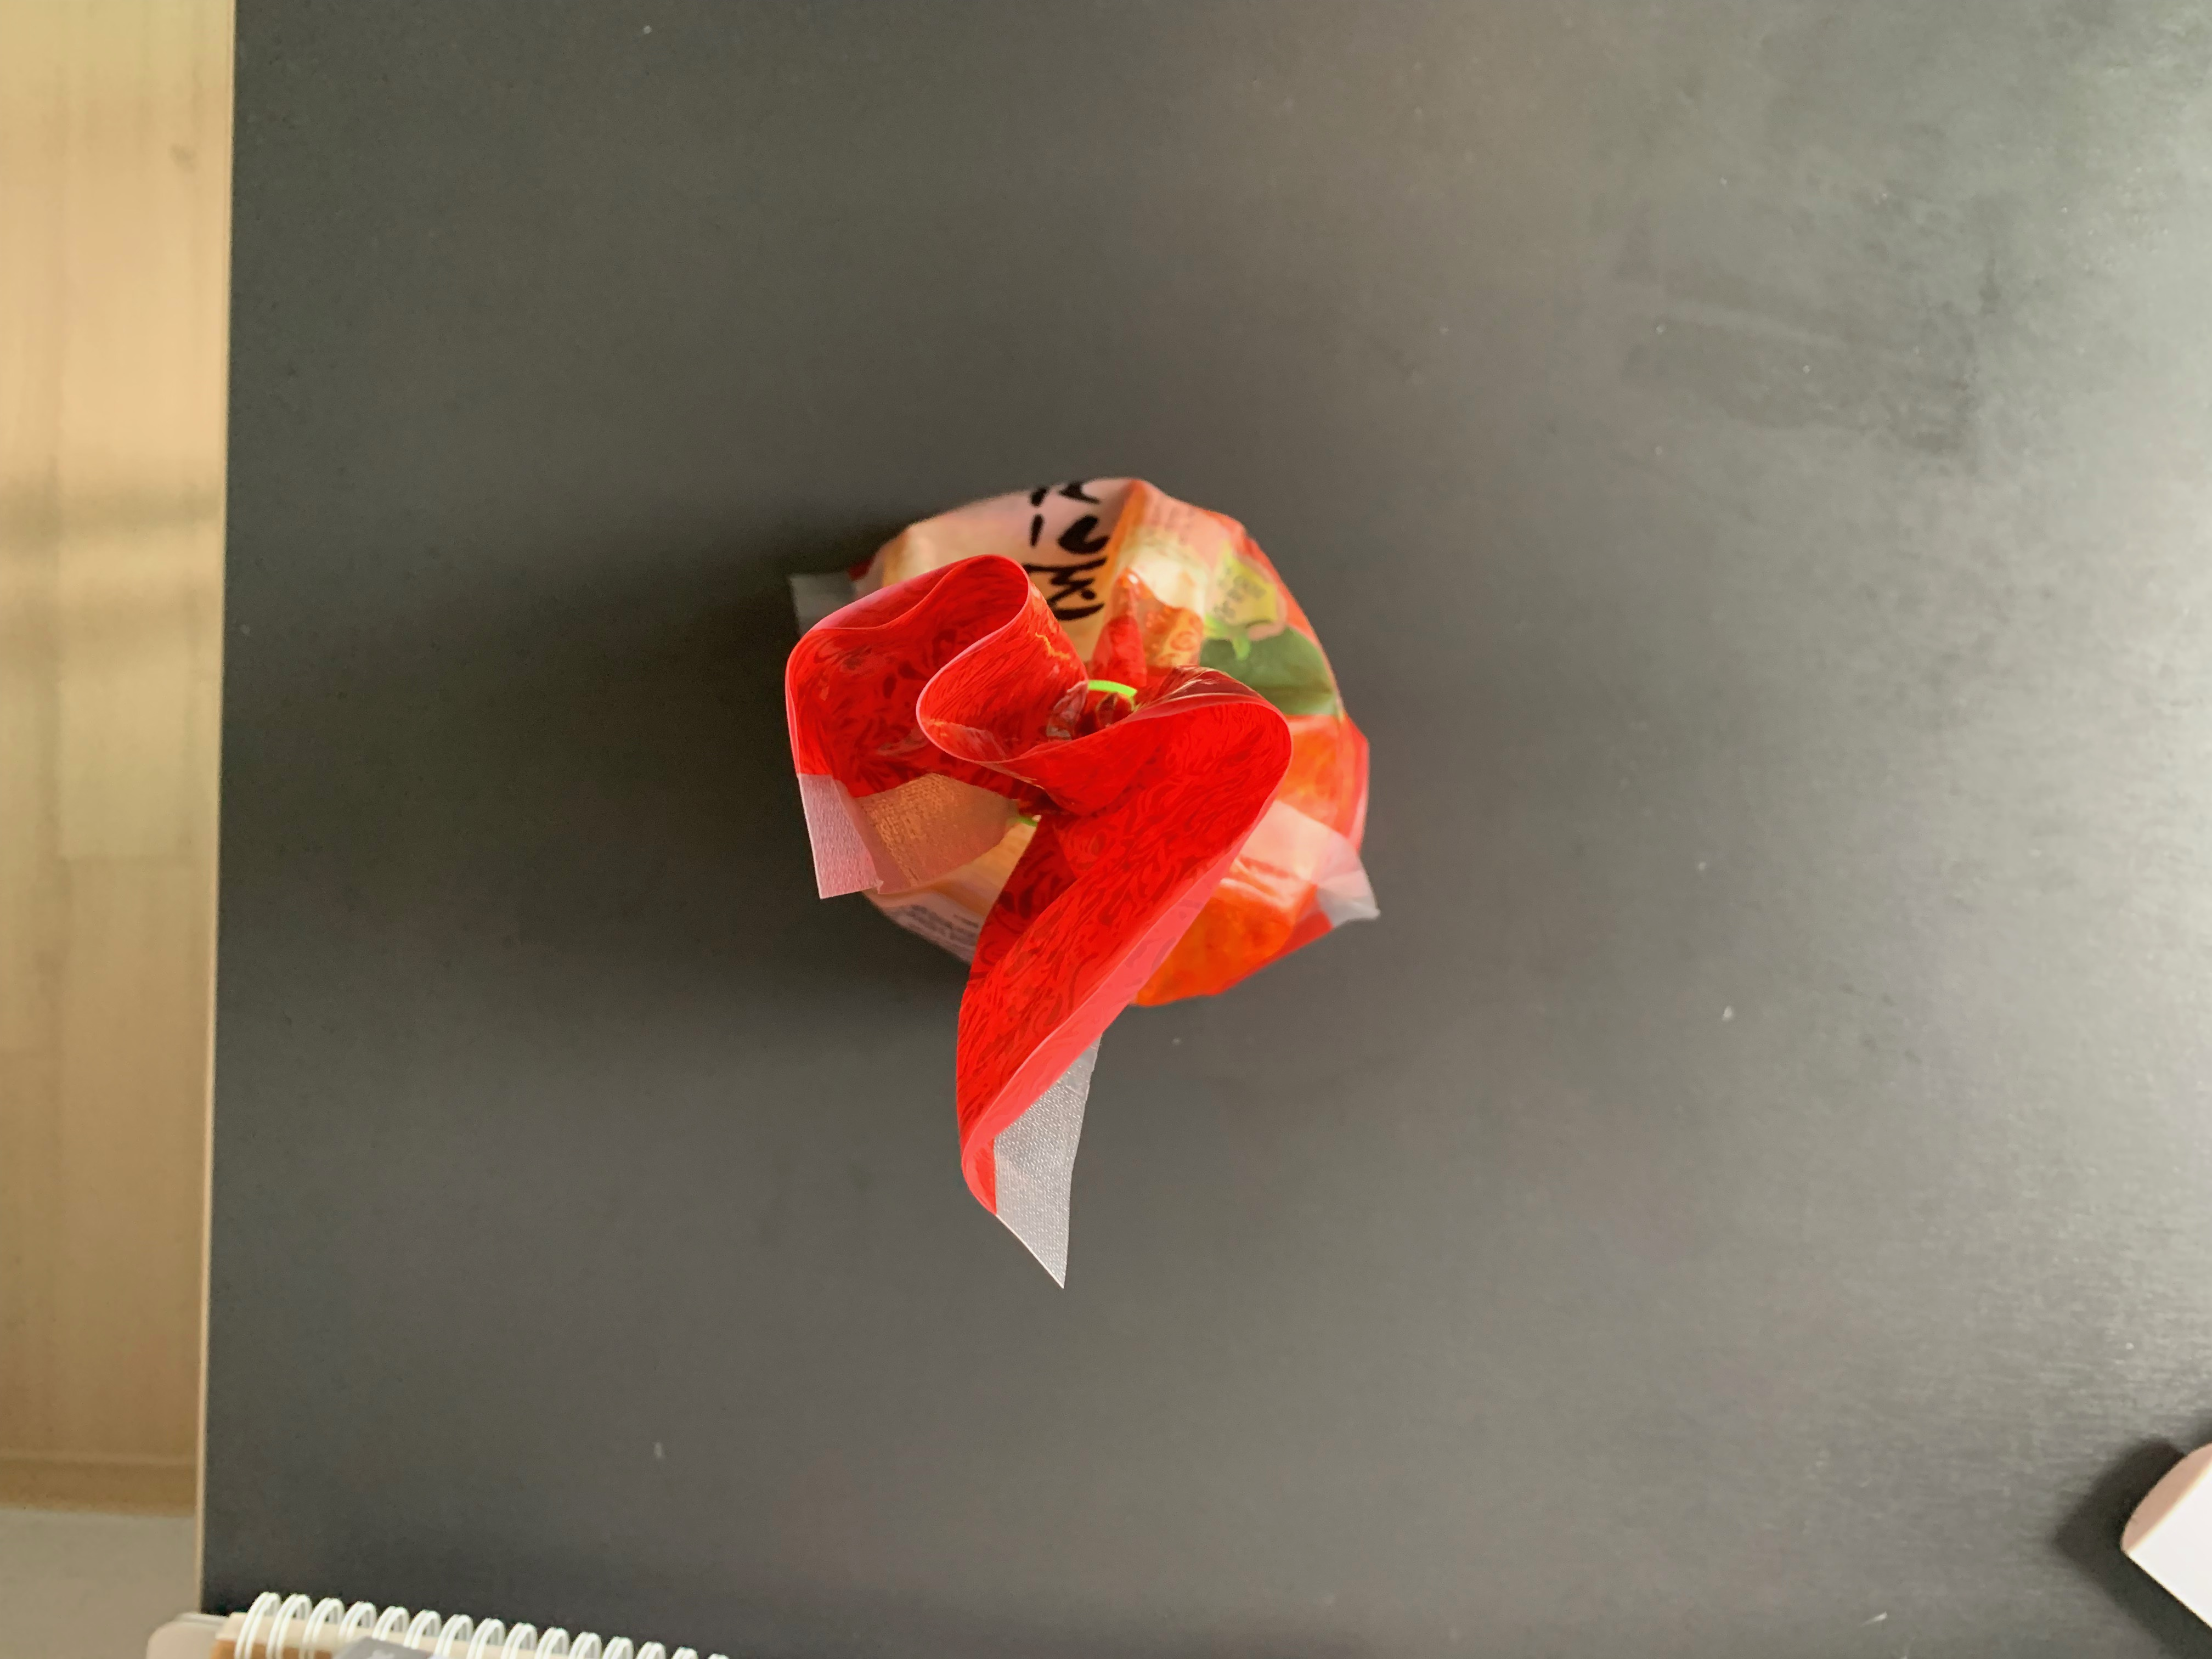kimchi: (779, 481, 1371, 1216)
